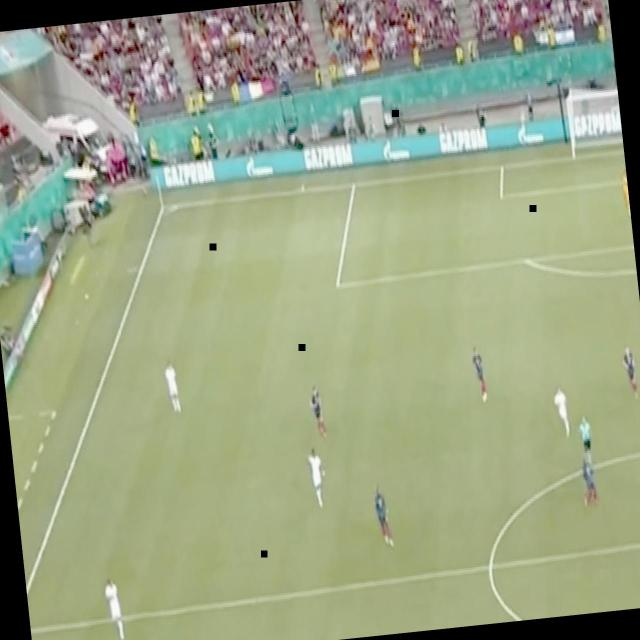player-white: (99, 570, 128, 640), (370, 480, 397, 552), (303, 443, 329, 511), (548, 379, 574, 443), (467, 341, 492, 406), (574, 408, 598, 475), (160, 354, 185, 418), (577, 450, 602, 514), (305, 382, 329, 443), (617, 341, 640, 404), (618, 162, 631, 220)
